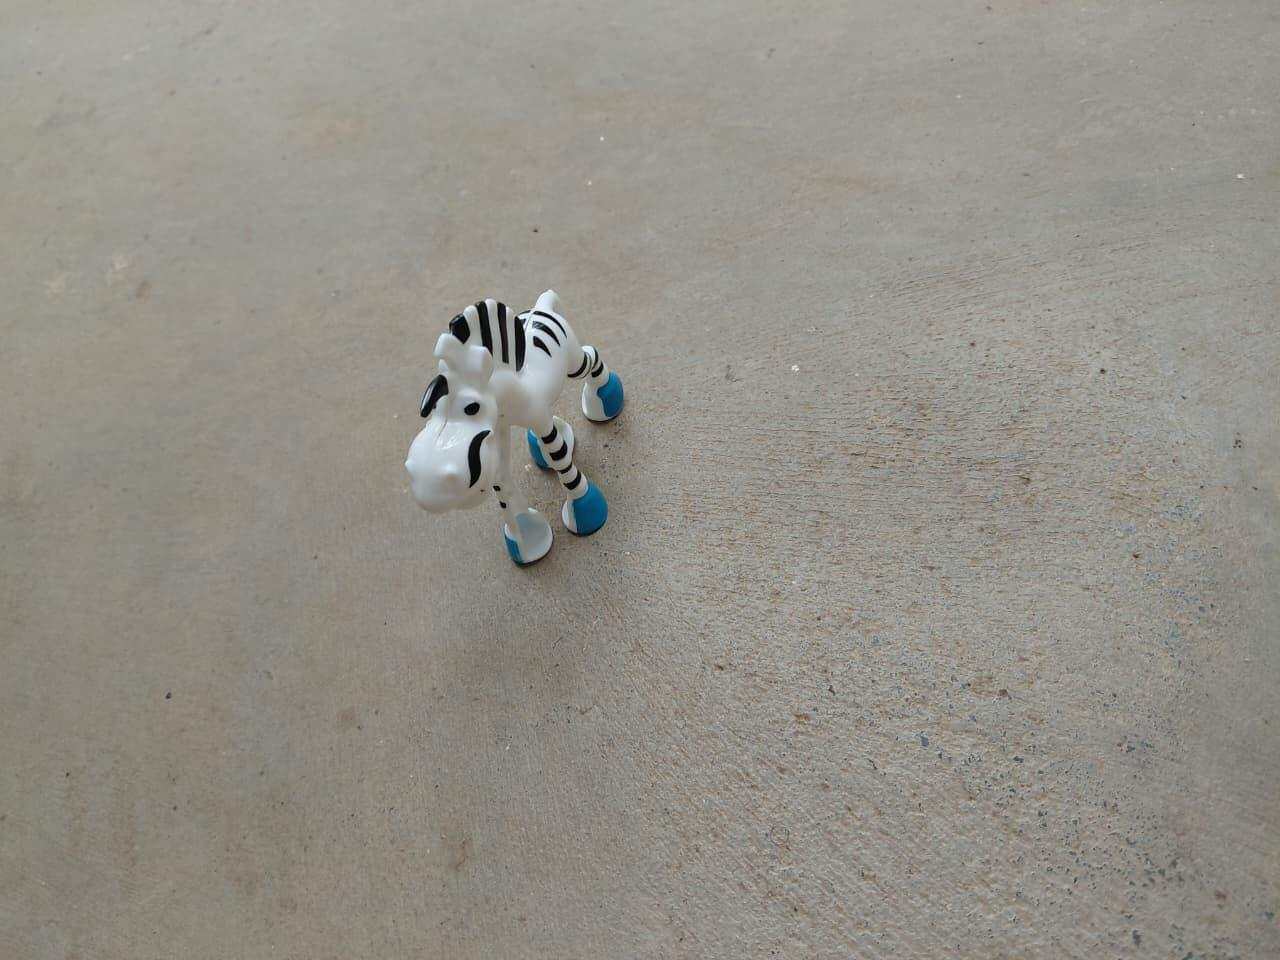giraffe: (400, 278, 638, 579)
